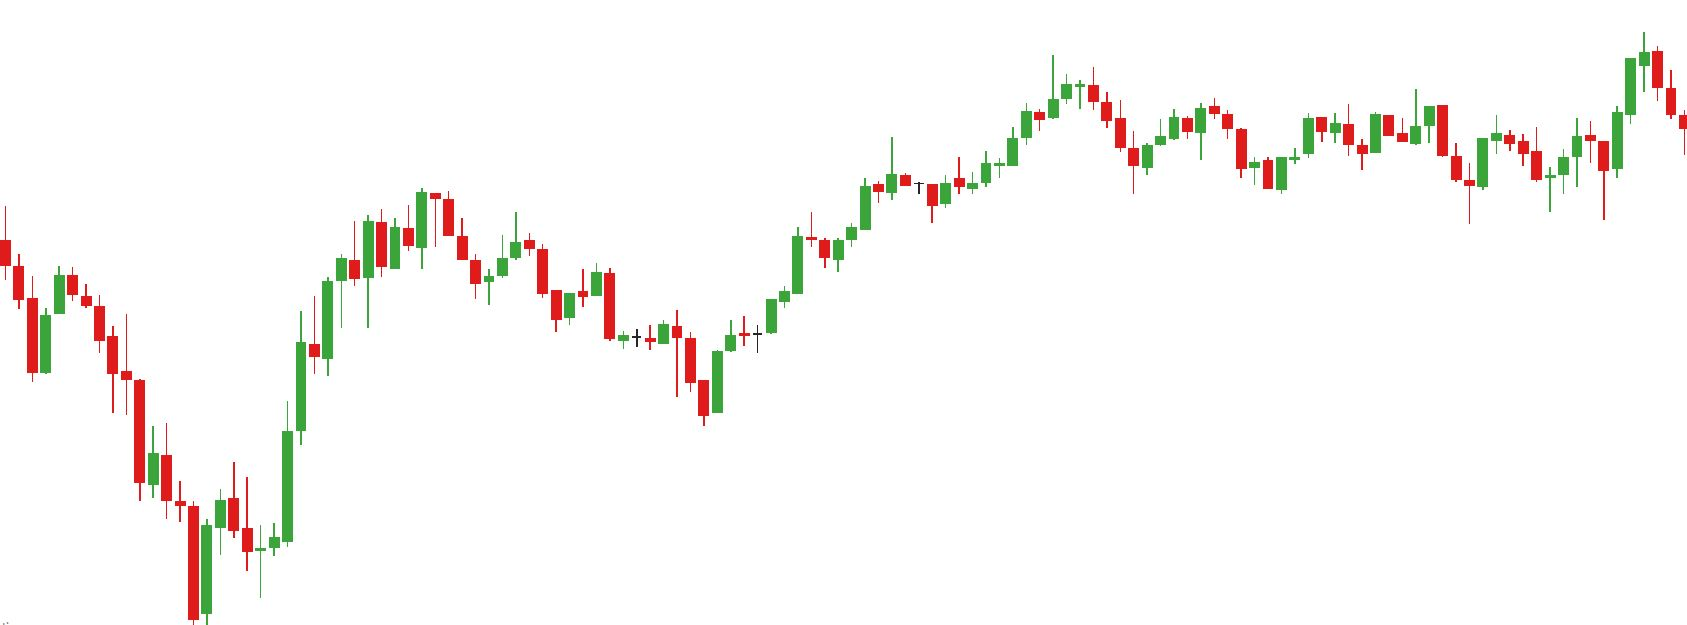buy: (1545, 136, 1611, 215)
